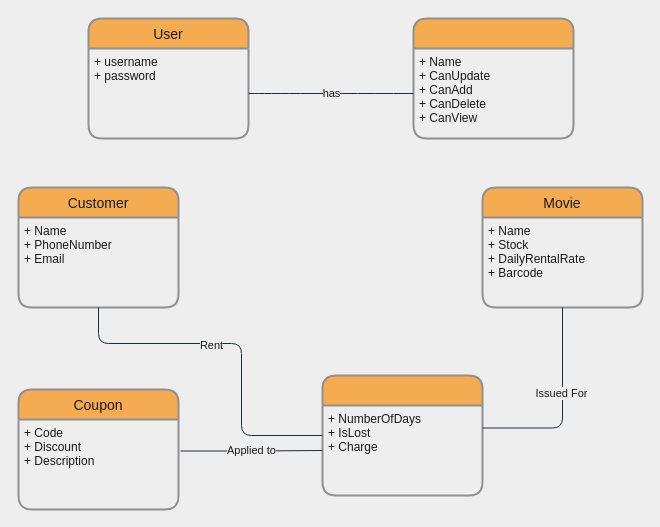
Some shapes in this 660 by 527 pixel diagram are drawn without their labels. The shapes that lost their labels are listed below. From the top down, each one's box as (x1, y1, x2, y2) in pixels, then its label:
(412, 17, 574, 139): Permission
(321, 374, 483, 496): Rental
